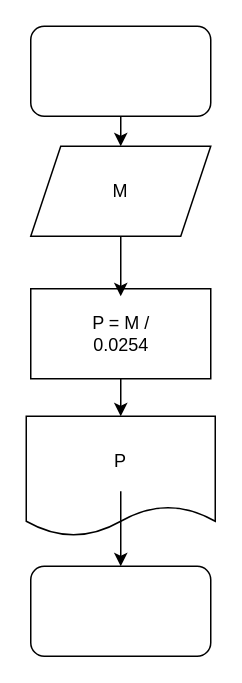
Some shapes in this 242 by 683 pixel diagram are drawn without their labels. The shapes that lost their labels are listed below. From the top down, each one's centre as x and y in pixels, then its label:
At (x=120, y=70): "Inicio".
At (x=120, y=610): "Fin".
